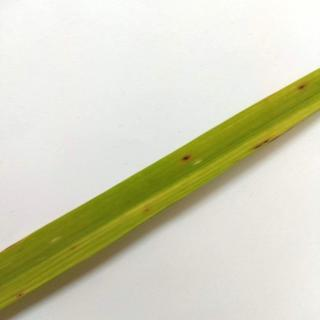Bercak-Cokelat-Sempit: (176, 153, 200, 167), (293, 85, 309, 96)
